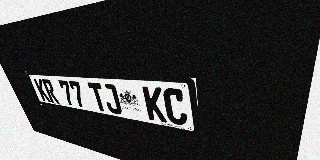7: (68, 81, 88, 109), (57, 80, 77, 107)
C: (162, 88, 188, 126)
J: (100, 83, 123, 115)
K: (142, 86, 167, 123), (33, 78, 51, 102)
R: (41, 79, 60, 104)
T: (87, 82, 109, 112)
